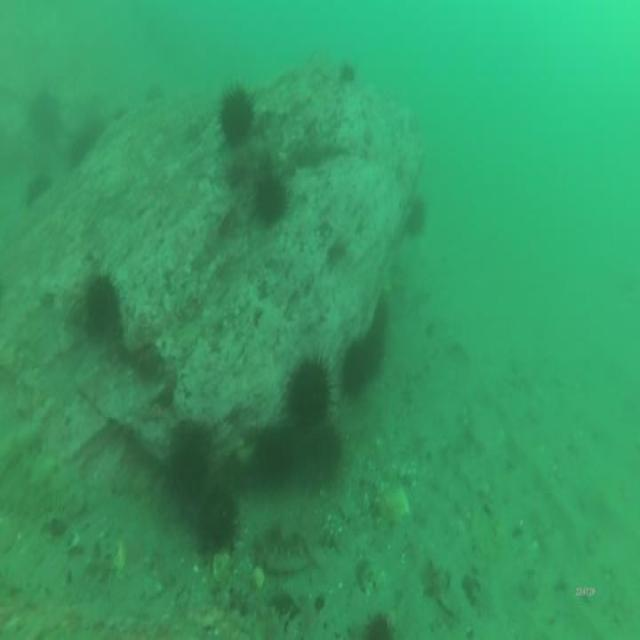echinus: (166, 416, 214, 507), (284, 350, 335, 434), (194, 476, 239, 562), (214, 79, 258, 155), (252, 419, 297, 491), (250, 166, 290, 237), (79, 265, 119, 335), (340, 335, 372, 408), (402, 192, 429, 244), (335, 58, 357, 88)
holothurian: (254, 534, 312, 583)
